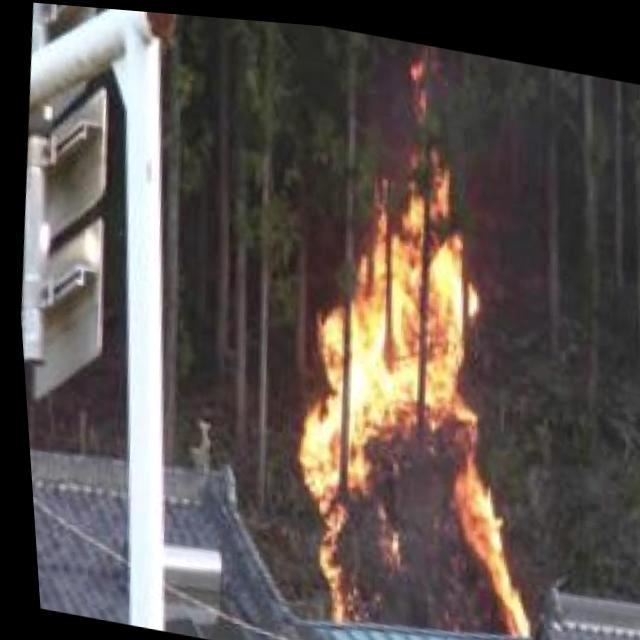fire: (261, 144, 547, 634)
